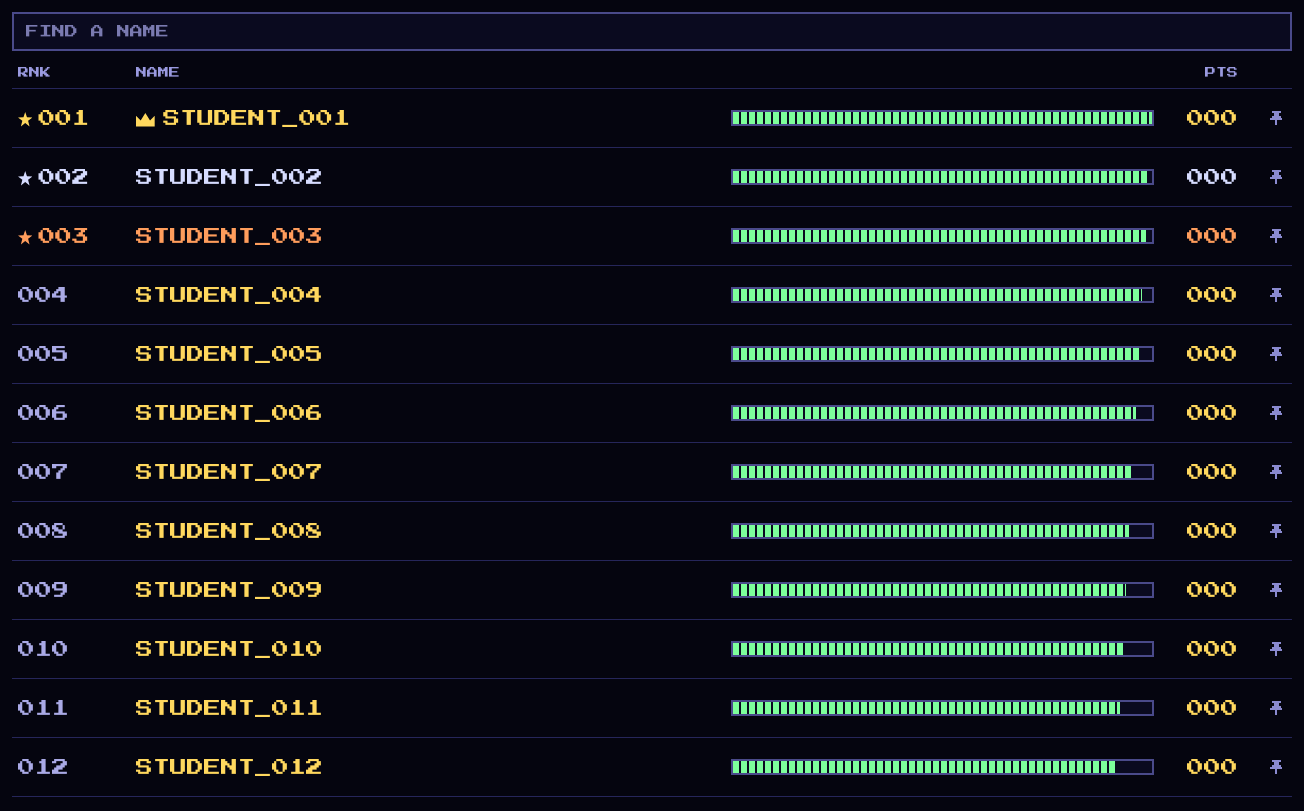
it: Board with 130 students › says so when nobody matches
Type "nobody" into the search field labelled "FIND A NAME" at (652, 32), box [12,12,1292,51]
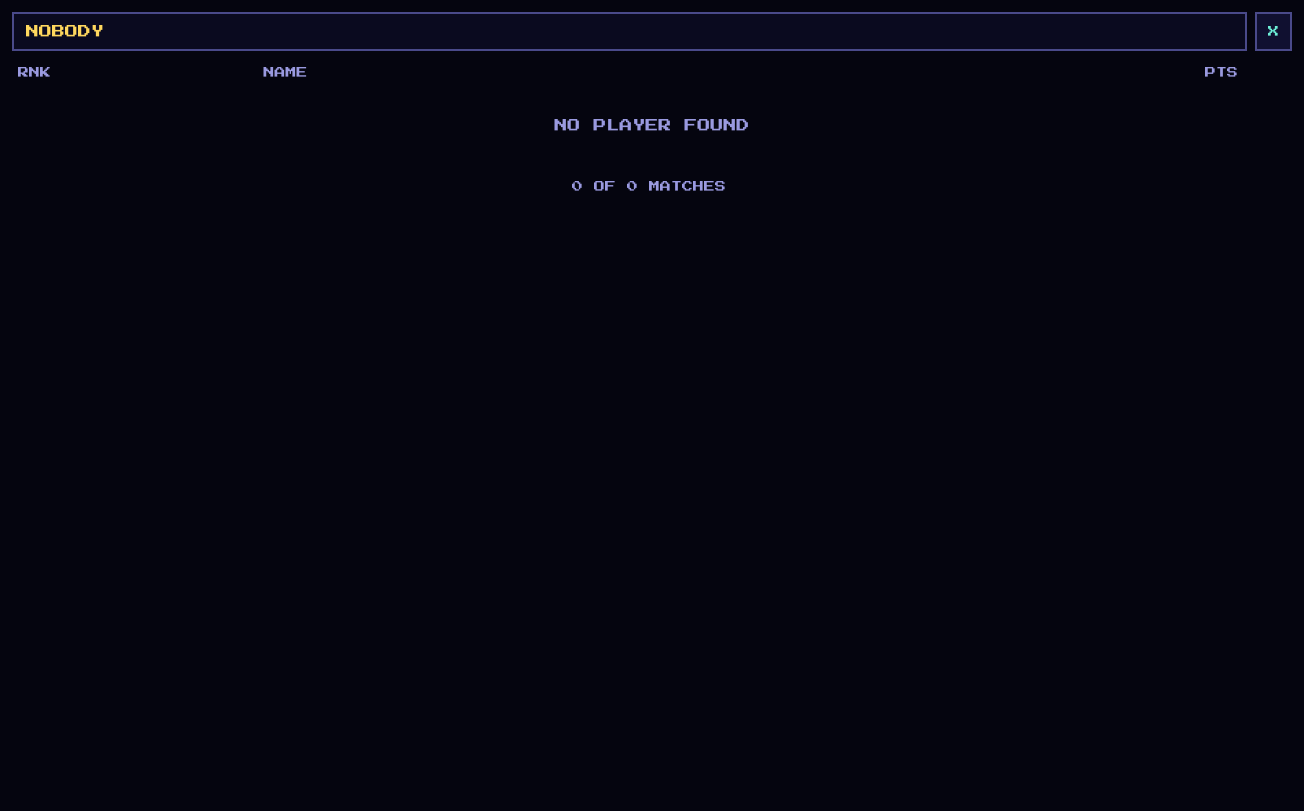
Expected: the text "NO PLAYER FOUND" is shown, [554,119,750,132]
